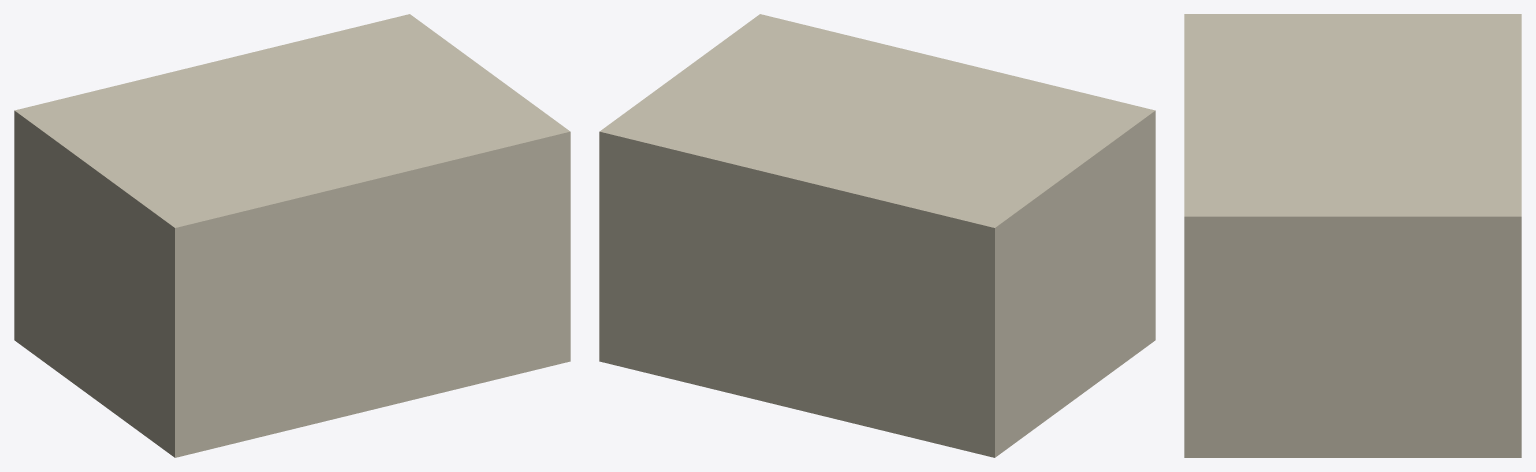
Rendered from crackers.glb.
3 views of the same model, side by side, from view 1: azimuth 30°, elevation 25°; view 2: azimuth 150°, elevation 25°; view 3: azimuth 270°, elevation 25° (orthographic). The views are drawn at different scales.
Visible parts, largest first — view 1: 00_package; view 2: 00_package; view 3: 00_package.
Part boxes in pixels (left/top/right/bottom): 00_package: left=14, top=14, right=570, bottom=457; 00_package: left=599, top=14, right=1155, bottom=457; 00_package: left=1184, top=14, right=1521, bottom=457.
Size of the model in its own units: 0.27 by 0.163 by 0.19.
